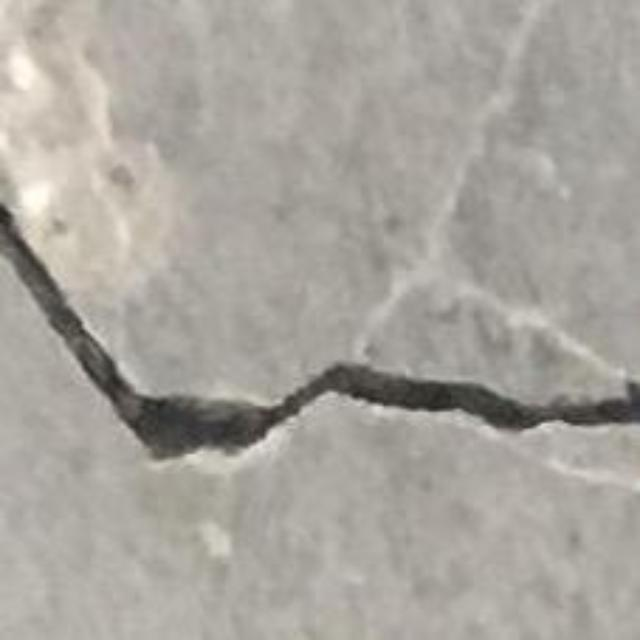crack: (0, 203, 639, 459)
